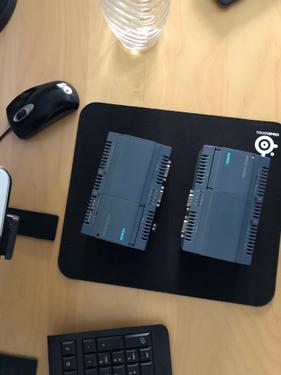device: (180, 146, 271, 266), (81, 132, 172, 251)
